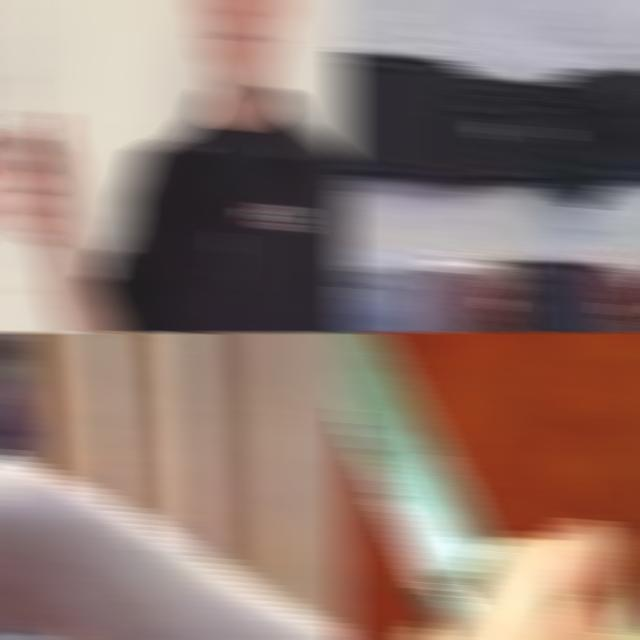Knife: (336, 332, 500, 640), (336, 262, 640, 332)
Knife_Handle: (0, 380, 178, 640), (0, 0, 82, 250)
